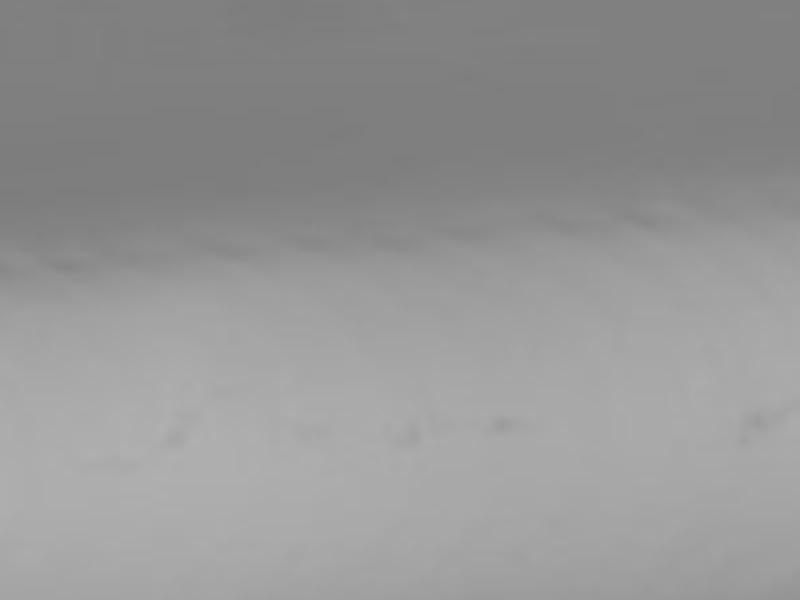defect: (742, 402, 791, 435), (490, 411, 531, 438), (157, 424, 188, 456), (398, 420, 429, 451)
